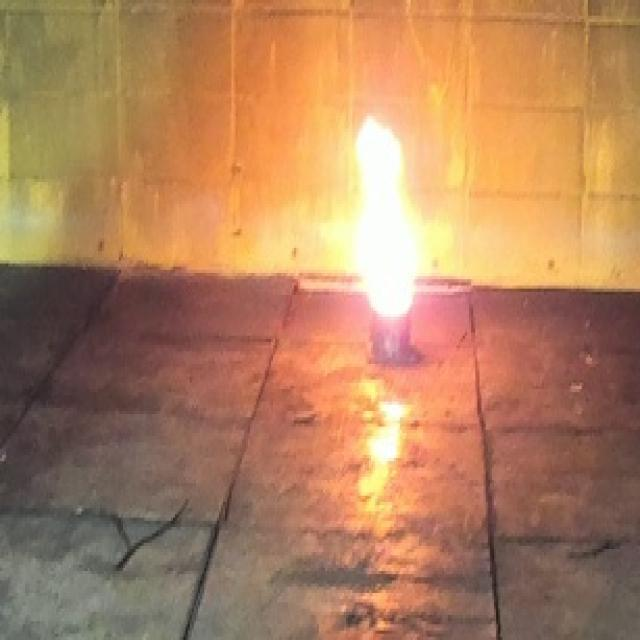Fire: (356, 115, 416, 318)
